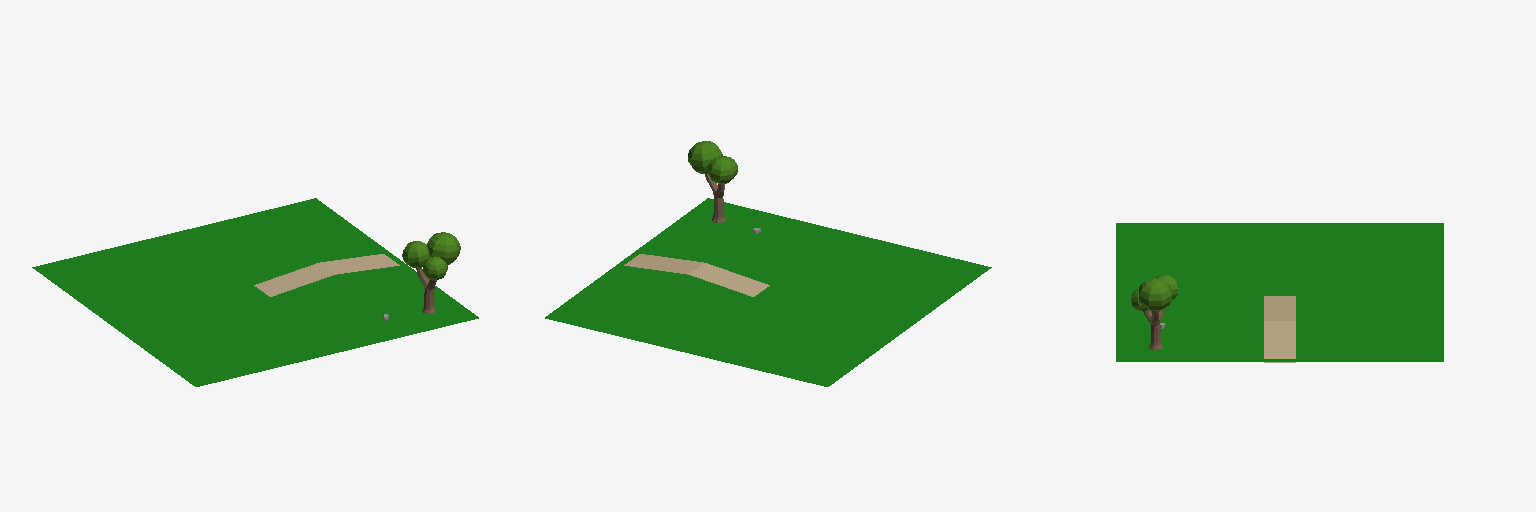
The model's file is 2x2_grass.obj.
3 views of the same model, side by side, from view 1: azimuth 30°, elevation 25°; view 2: azimuth 150°, elevation 25°; view 3: azimuth 270°, elevation 25° (orthographic).
Visible parts, largest first — view 1: mergedBlocks; view 2: mergedBlocks; view 3: mergedBlocks.
Part boxes in pixels (left/top/right/bottom): mergedBlocks: left=32, top=198, right=478, bottom=386; mergedBlocks: left=545, top=141, right=991, bottom=386; mergedBlocks: left=1116, top=223, right=1443, bottom=362.
Size of the model in its own units: 2 by 0.5038 by 2.